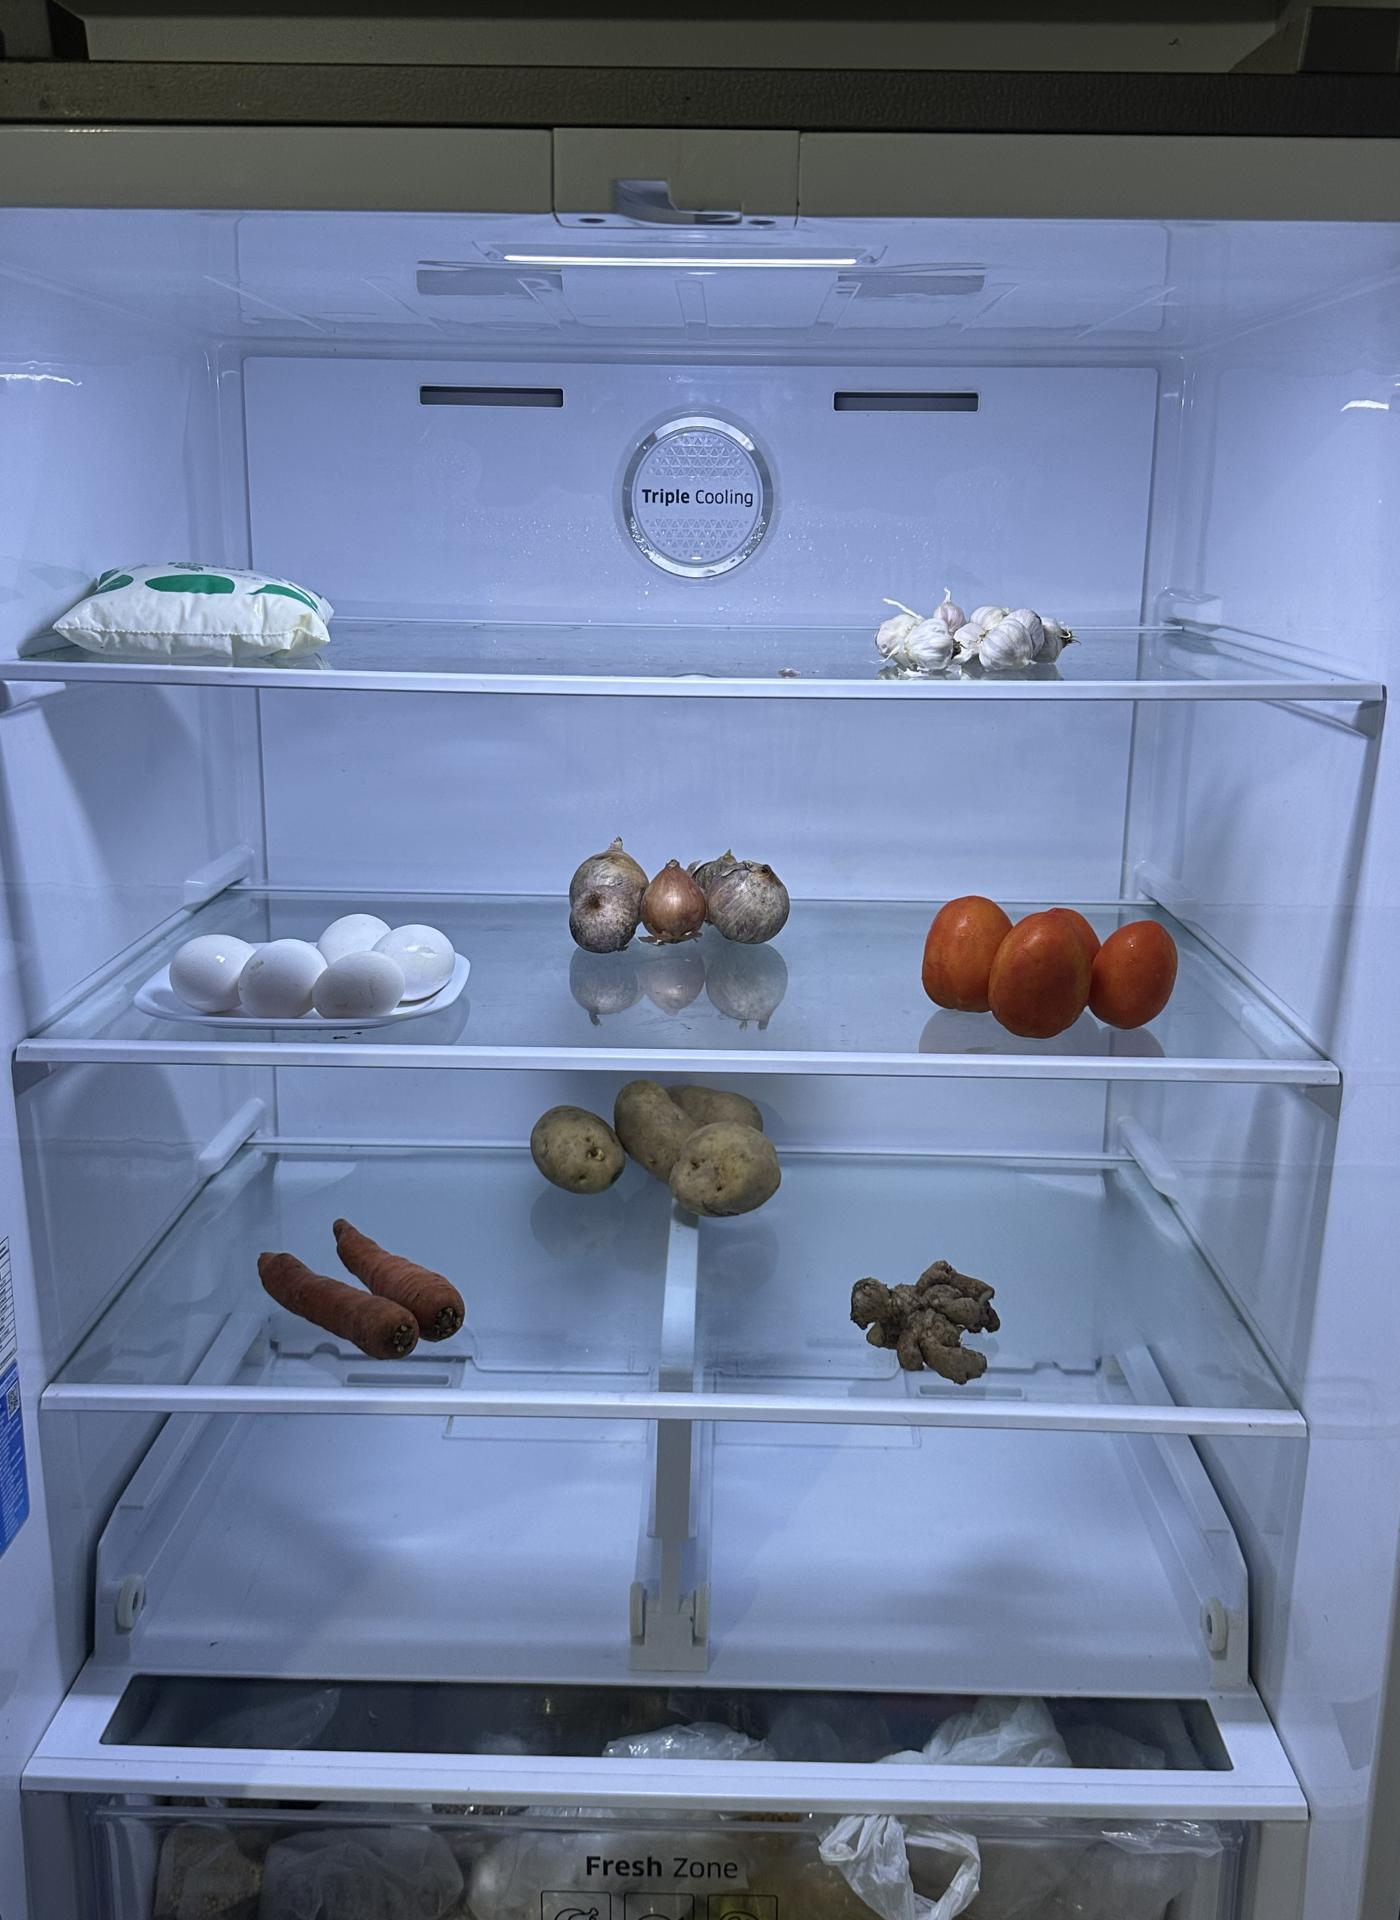carrots: (261, 1204, 471, 1361)
egg: (167, 887, 461, 1015)
garlic: (865, 586, 1084, 683)
ginger: (847, 1249, 1006, 1392)
milk: (54, 552, 329, 665)
onion: (561, 830, 793, 948)
potato: (528, 1066, 795, 1213)
tomato: (917, 878, 1187, 1038)
